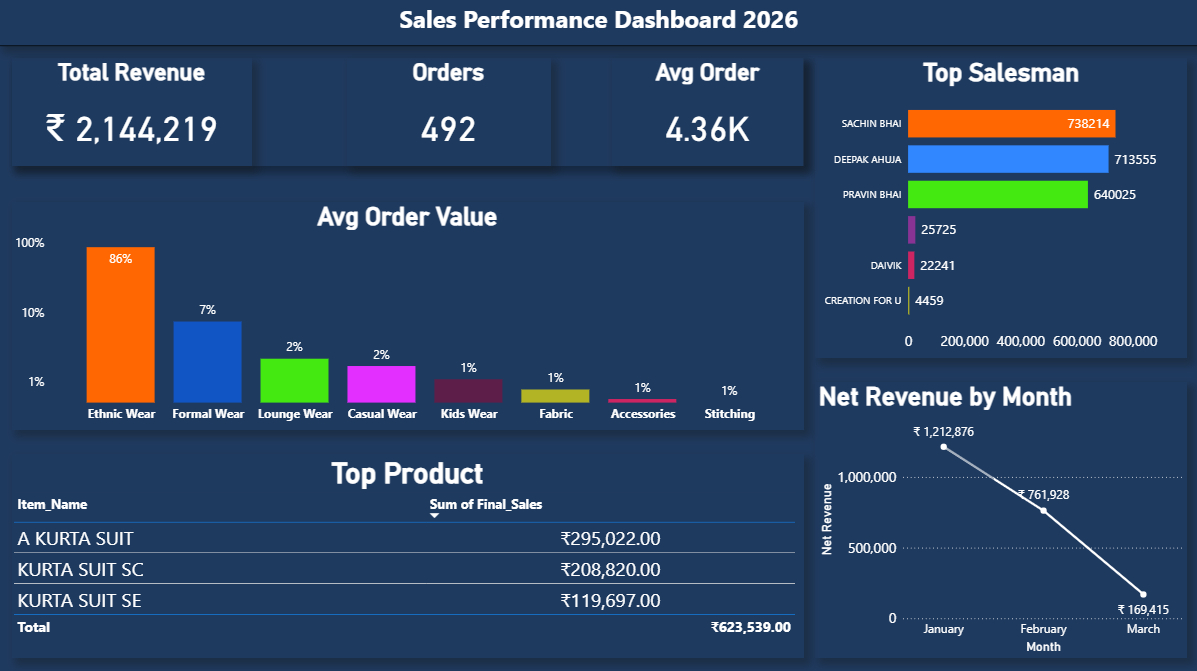

The dashboard page shown, as its layout file describes it:
{"tool":"powerbi","page":{"name":"Page 1","canvas":[1600,1000],"ordinal":0},"visuals":[{"type":"textbox","box":[0,0,1600,48],"z":0},{"type":"card","title":"💰 Net Revenue","fields":{"Values":["sales_project sales_data.Net Revenue Display"]},"box":[16,160,272,128],"z":1000},{"type":"card","title":"🧾Avg Order ","fields":{"Values":["sales_project sales_data.Avg Order Value"]},"box":[1312,160,256,128],"z":2000},{"type":"card","title":"📦Orders ","fields":{"Values":["sales_project sales_data.Total Orders"]},"box":[672,160,256,128],"z":3000},{"type":"clusteredColumnChart","fields":{"Category":["sales_project sales_data.Item_Category"],"Y":["sales_project sales_data.Net Revenue"]},"box":[16,336,496,320],"z":4000},{"type":"clusteredBarChart","fields":{"Category":["sales_project sales_data.Salesman_Name"],"Y":["sales_project sales_data.Net Revenue"]},"box":[1072,336,512,320],"z":5000},{"type":"columnChart","fields":{"Category":["sales_project sales_data.Item_Category"],"Series":["sales_project sales_data.Sales_Type"],"Y":["Sum(sales_project sales_data.Final_Sales)"]},"box":[16,688,496,300],"z":6000},{"type":"slicer","fields":{"Values":["sales_project sales_data.Item_Category"]},"box":[1008,64,560,64],"z":7000},{"type":"slicer","fields":{"Values":["sales_project sales_data.Date.Variation.Date Hierarchy.Month"]},"box":[172.4,64,531.6,64],"z":8000,"group":"g1"},{"type":"lineChart","fields":{"Category":["sales_project sales_data.Date.Variation.Date Hierarchy.Month"],"Y":["sales_project sales_data.Net Revenue"]},"box":[576,336,448,320],"z":8000},{"type":"textbox","box":[1104,688,464,304],"z":9000},{"type":"tableEx","fields":{"Values":["sales_project sales_data.Item_Name","Sum(sales_project sales_data.Final_Sales)"]},"box":[528,688,560,304],"z":10000},{"type":"group","id":"g1","title":"Group 1","box":[16,64,688,64],"z":11000},{"type":"textbox","box":[16,64,156.4,64],"z":13001,"group":"g1"}]}

Visuals, with their boxes on the page's 1600x1000 design canvas (x1, y1, x2, y2). These are canvas units, not pixel positions in the 1197x671 screenshot, which may show the page scaled, cropped or inside an application window:
textbox: bbox=(0, 0, 1600, 48)
"💰 Net Revenue" card: bbox=(16, 160, 288, 288)
"🧾Avg Order " card: bbox=(1312, 160, 1568, 288)
"📦Orders " card: bbox=(672, 160, 928, 288)
clusteredColumnChart - sales_project sales_data.Item_Category x sales_project sales_data.Net Revenue: bbox=(16, 336, 512, 656)
clusteredBarChart - sales_project sales_data.Salesman_Name x sales_project sales_data.Net Revenue: bbox=(1072, 336, 1584, 656)
columnChart - sales_project sales_data.Item_Category x sales_project sales_data.Sales_Type: bbox=(16, 688, 512, 988)
slicer - sales_project sales_data.Item_Category: bbox=(1008, 64, 1568, 128)
slicer - sales_project sales_data.Date.Variation.Date Hierarchy.Month: bbox=(172, 64, 704, 128)
lineChart - sales_project sales_data.Date.Variation.Date Hierarchy.Month x sales_project sales_data.Net Revenue: bbox=(576, 336, 1024, 656)
textbox: bbox=(1104, 688, 1568, 992)
tableEx - sales_project sales_data.Item_Name x Sum(sales_project sales_data.Final_Sales): bbox=(528, 688, 1088, 992)
"Group 1" group: bbox=(16, 64, 704, 128)
textbox: bbox=(16, 64, 172, 128)
